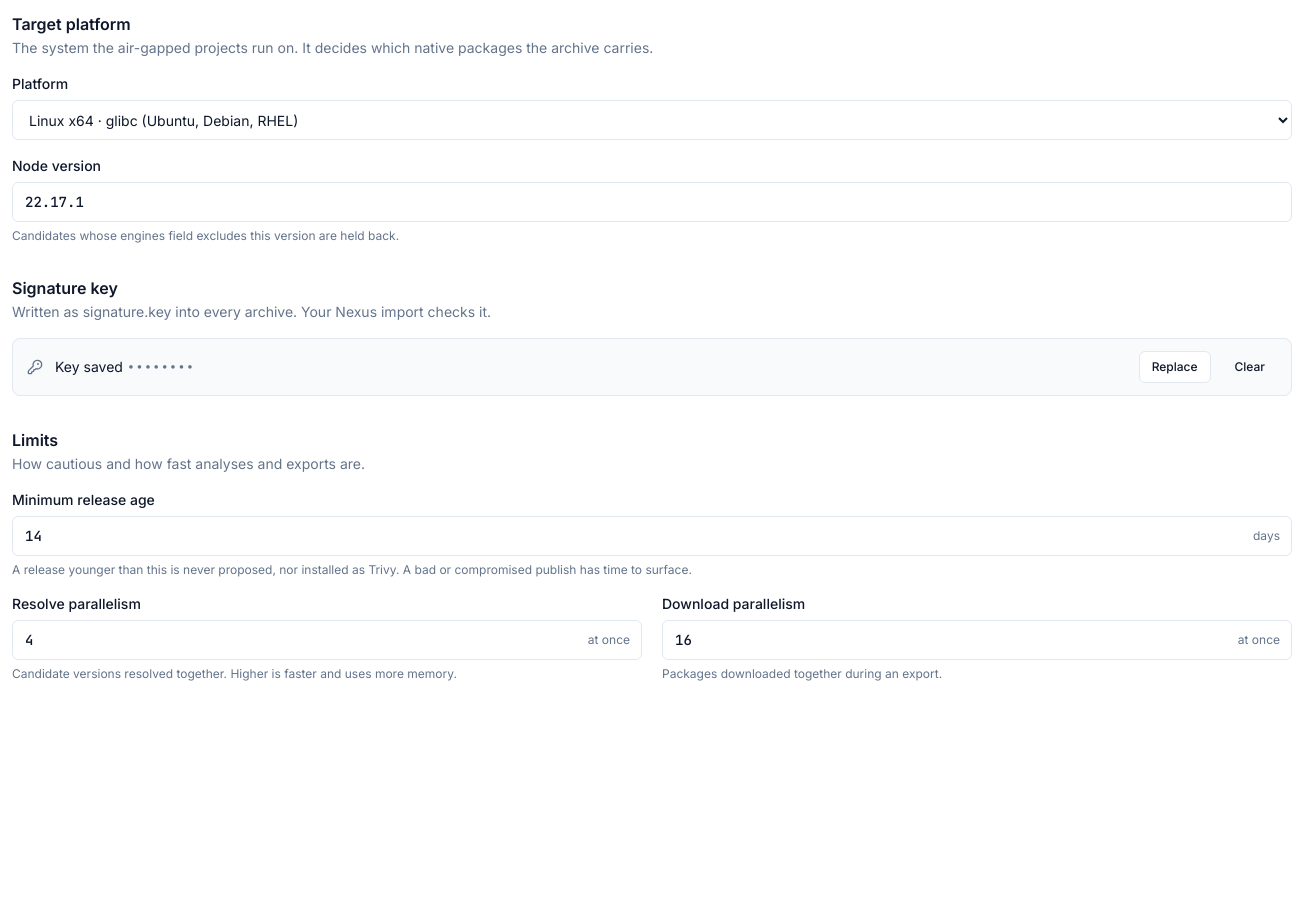
Test: SettingsForm › explains an inexact Node version next to the field and does not save it
Replace the text in the field labelled "Node version" with "22.x". click: (652, 202)
box: x1=12 y1=182 x2=1292 y2=222
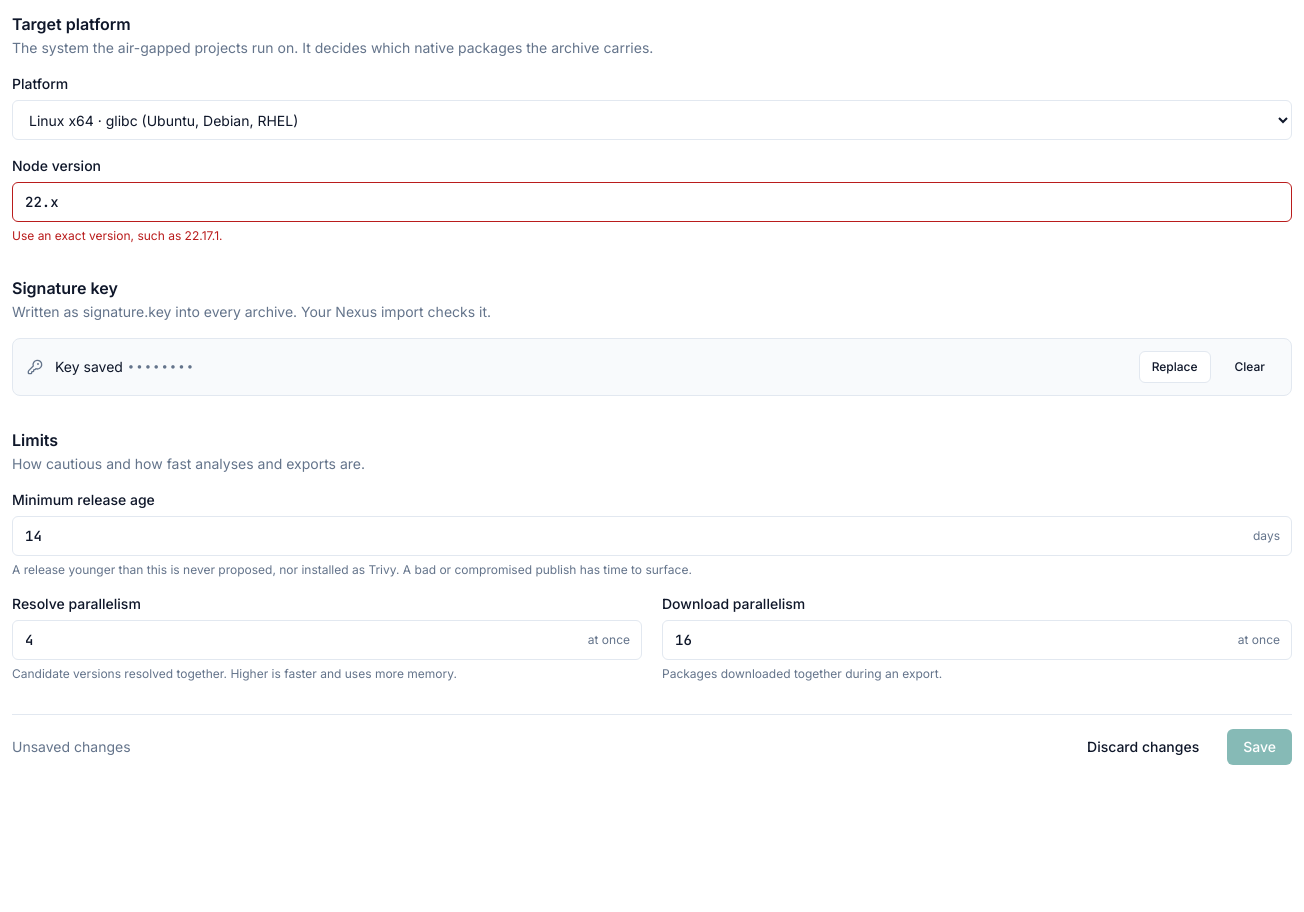
Check: the text "Use an exact version, such as 22.17.1." is shown, box x1=12 y1=228 x2=223 y2=243
Check: the button "Save" is disabled, box x1=1227 y1=729 x2=1292 y2=765
